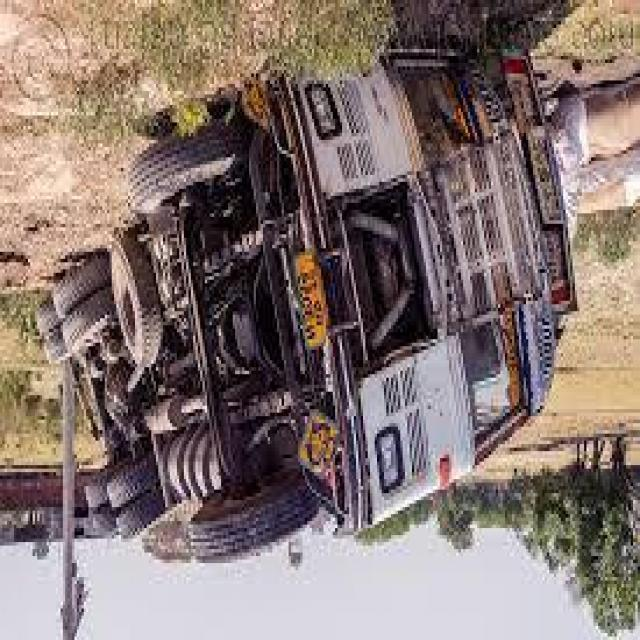severe: (30, 46, 582, 580)
